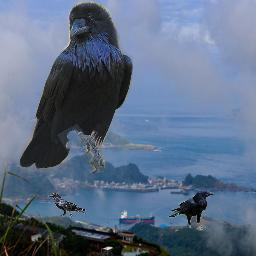Crow: (20, 1, 133, 173), (167, 190, 215, 228), (48, 193, 88, 217)
